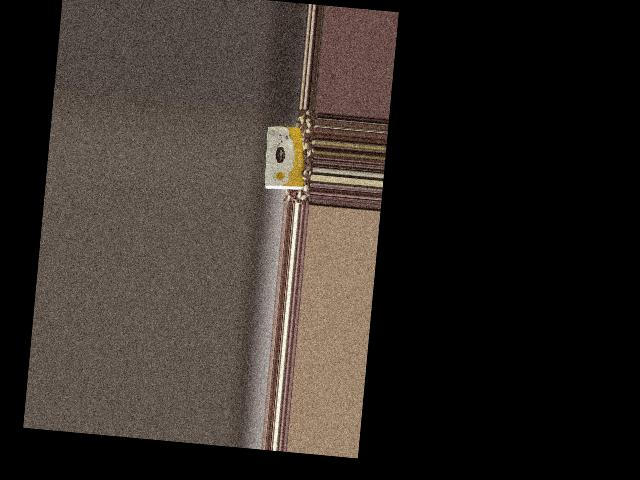chocolate: (259, 120, 311, 195)
